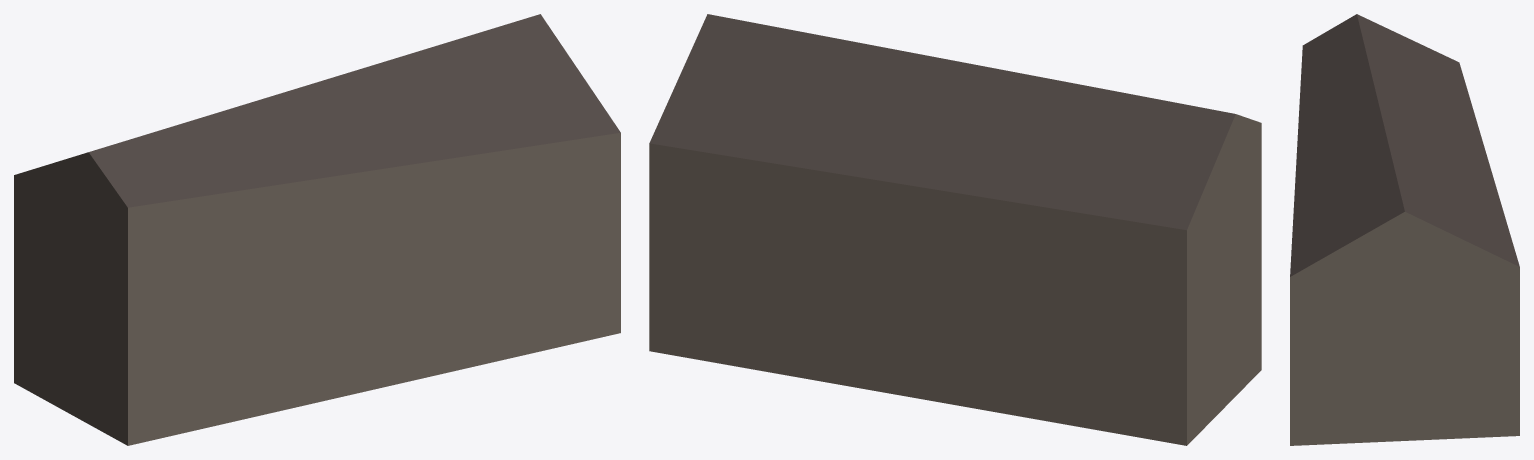
The picture shows the model from 3 angles, left to right: view 1: azimuth 30°, elevation 25°; view 2: azimuth 150°, elevation 25°; view 3: azimuth 270°, elevation 25°; orthographic projection. The views are drawn at different scales.
Visible parts, largest first — view 1: HP-w408450709; view 2: HP-w408450709; view 3: HP-w408450709.
Part boxes in pixels (x1,y1,x2,y2): HP-w408450709: (14,14,620,445); HP-w408450709: (649,14,1261,445); HP-w408450709: (1290,14,1519,445).
Bounding box in the file's own units: 15.87 × 8.15 × 7.41.
